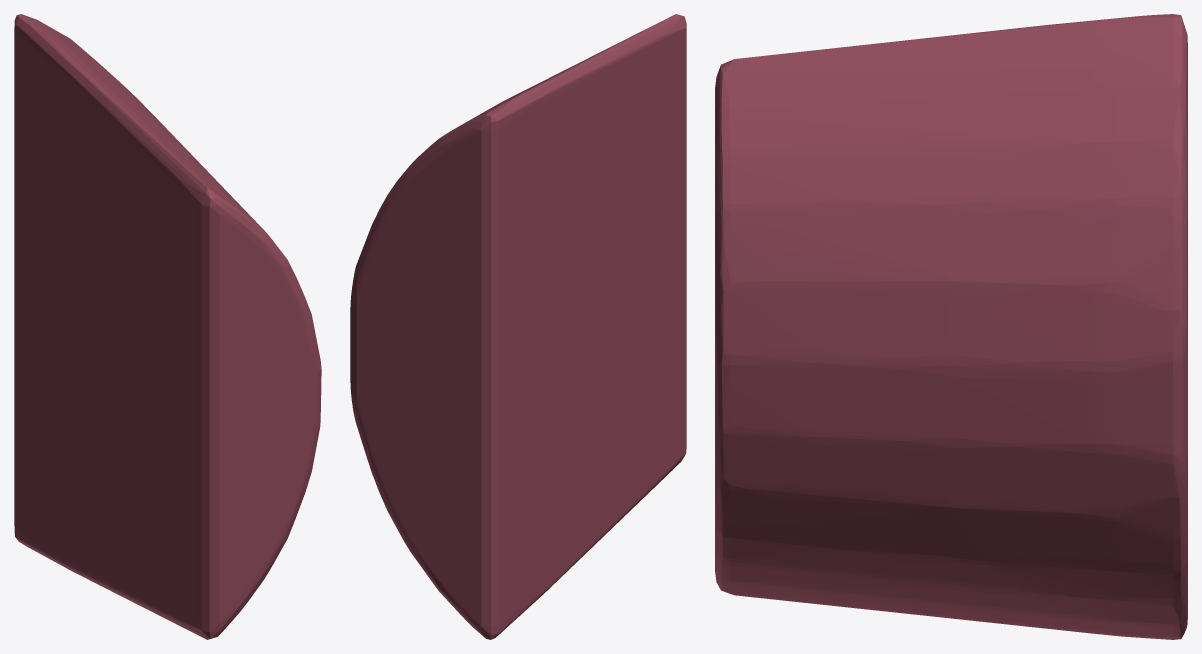
File: right_th_middle_part_13.obj
3 views of the same model, side by side, from view 1: azimuth 30°, elevation 25°; view 2: azimuth 150°, elevation 25°; view 3: azimuth 270°, elevation 25° (orthographic). The views are drawn at different scales.
Size of the model in its own units: 5.71 by 19.25 by 13.26.
